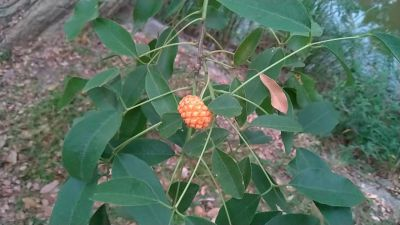eggs: (174, 92, 214, 132)
